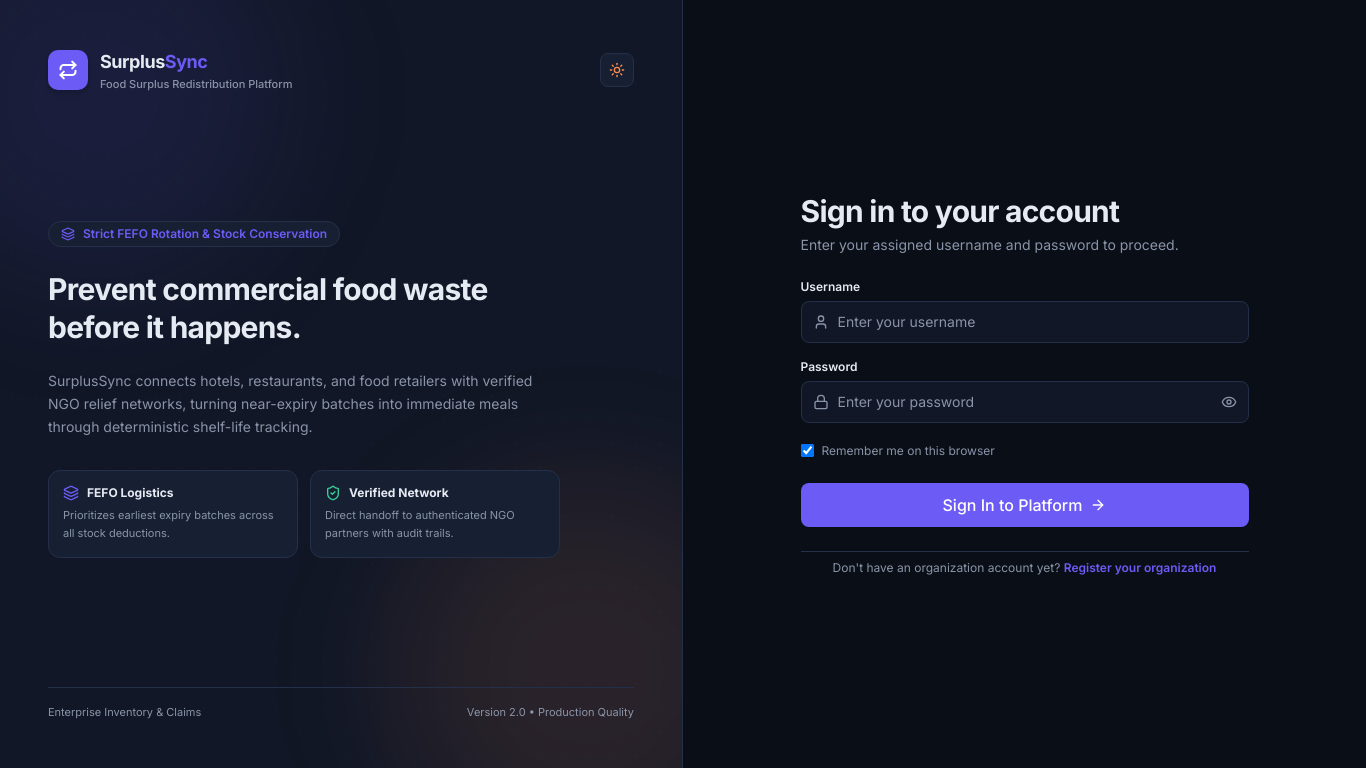
LoginForm Component › displays a clear message when a server error occurs (500)
The image size is (1366, 768).
Type "demo_business" into the field labelled "Username" at (1024, 322), box [800,300,1248,342]
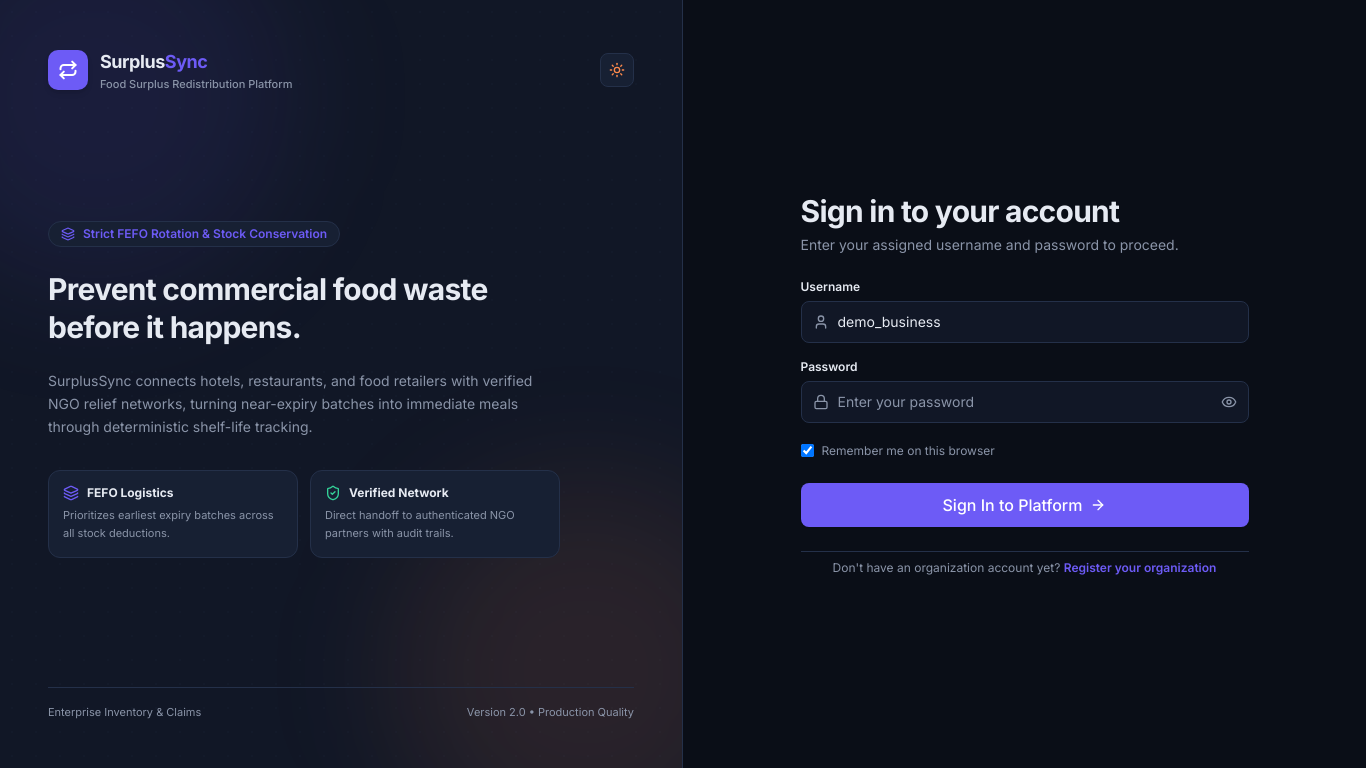
Type "password123" into the password field with placeholder "Enter your password" at (1024, 402), box [800,380,1248,422]
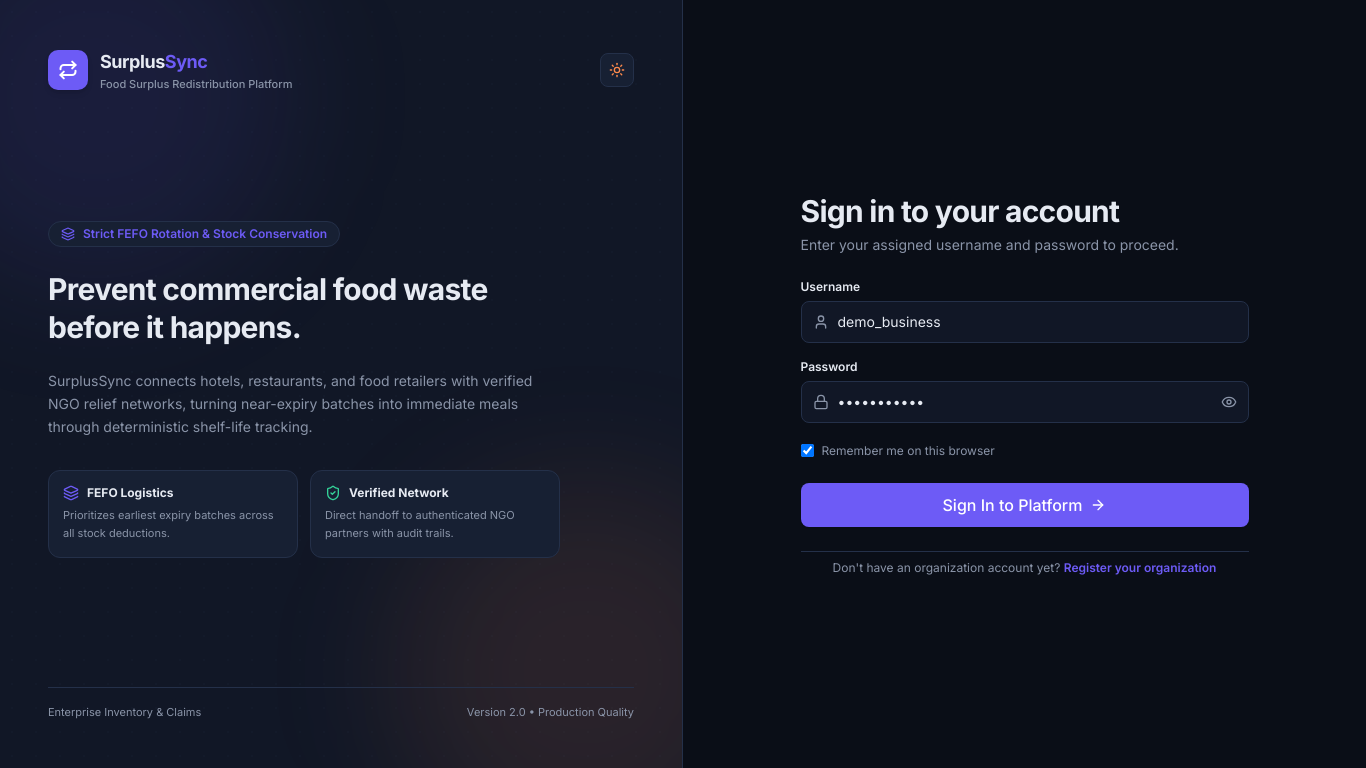
Click the button "Sign In to Platform" at (1024, 504), box [800,482,1248,526]
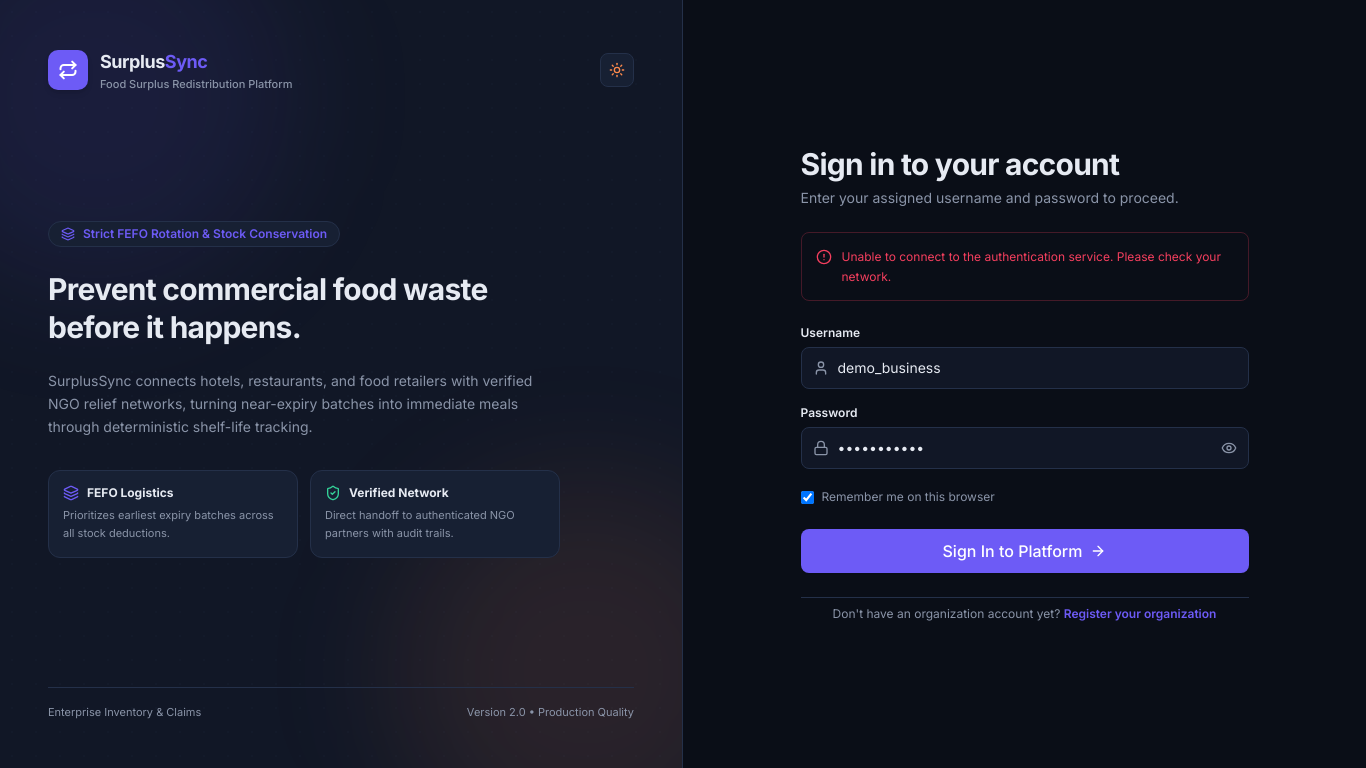
Result: the message "Unable to connect to the authentication service. Please check your network." is shown at [800,232,1248,301]
Result: the text "Unable to connect to the authentication service" is shown at [842,249,1221,284]
